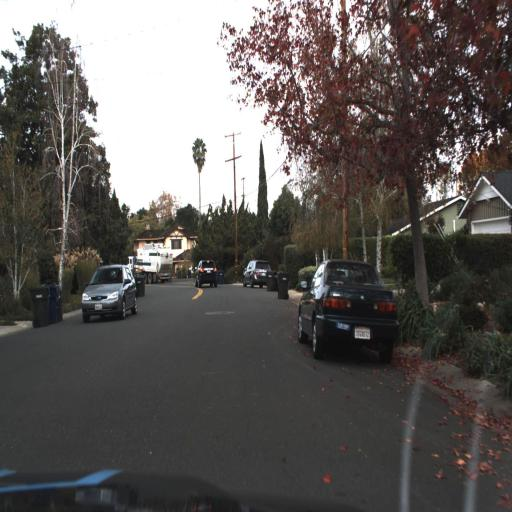car: (297, 259, 402, 367), (81, 264, 138, 323), (241, 254, 272, 285), (240, 258, 271, 288), (193, 257, 217, 288)
truck: (125, 240, 174, 283), (125, 241, 172, 284)
